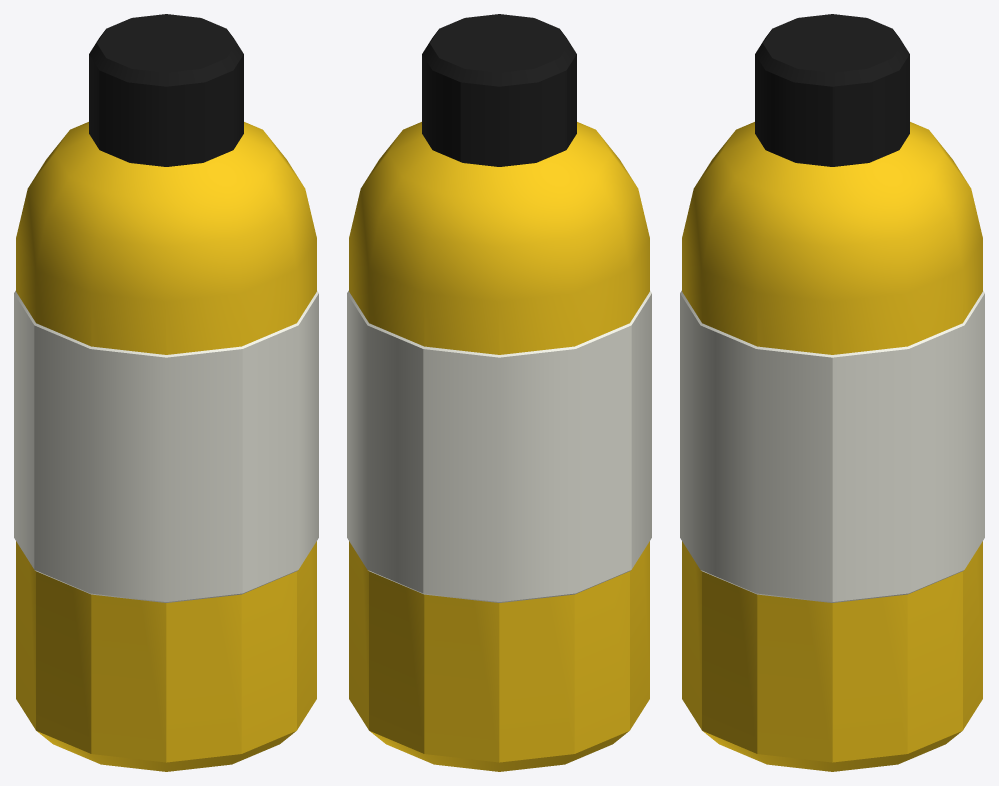
The model's file is repuesto_aderezo.glb.
3 views of the same model, side by side, from view 1: azimuth 30°, elevation 25°; view 2: azimuth 150°, elevation 25°; view 3: azimuth 270°, elevation 25° (orthographic).
Parts seen in each view (by area): view 1: pieza_cuerpo, repuesto_aderezo_tapa_etiqueta; view 2: pieza_cuerpo, repuesto_aderezo_tapa_etiqueta; view 3: pieza_cuerpo, repuesto_aderezo_tapa_etiqueta.
Part boxes in pixels (bbox=[...]): pieza_cuerpo: bbox=[16, 122, 316, 771]; repuesto_aderezo_tapa_etiqueta: bbox=[14, 14, 318, 602]; pieza_cuerpo: bbox=[349, 122, 649, 771]; repuesto_aderezo_tapa_etiqueta: bbox=[347, 14, 651, 602]; pieza_cuerpo: bbox=[682, 122, 982, 771]; repuesto_aderezo_tapa_etiqueta: bbox=[680, 14, 984, 602].
Size of the model in its own units: 0.078 by 0.19 by 0.078.
